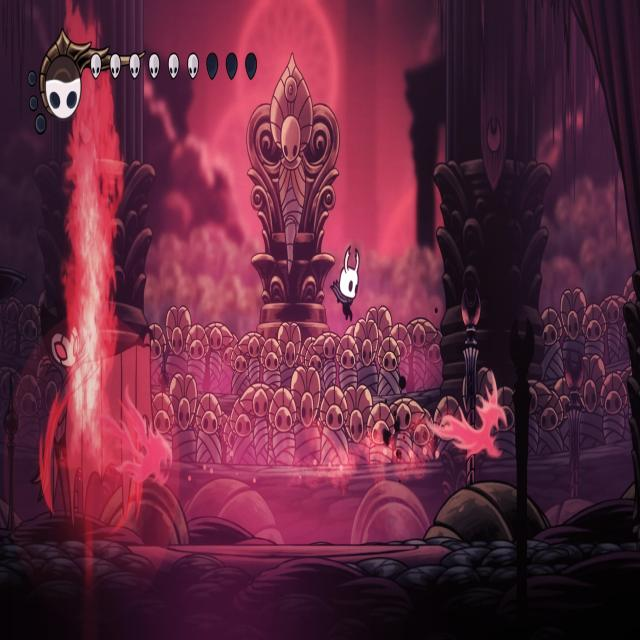Fire Bat: (427, 366, 508, 462), (111, 401, 170, 485)
Open Cloak: (30, 295, 166, 537)
Player: (326, 238, 364, 328)
